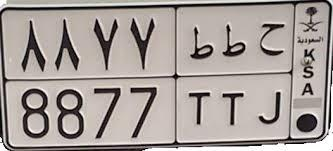7: (91, 17, 121, 139), (129, 18, 158, 139)
8: (54, 18, 85, 140), (20, 20, 50, 139)
J: (258, 23, 285, 125)
T: (188, 25, 215, 125), (222, 23, 246, 126)
